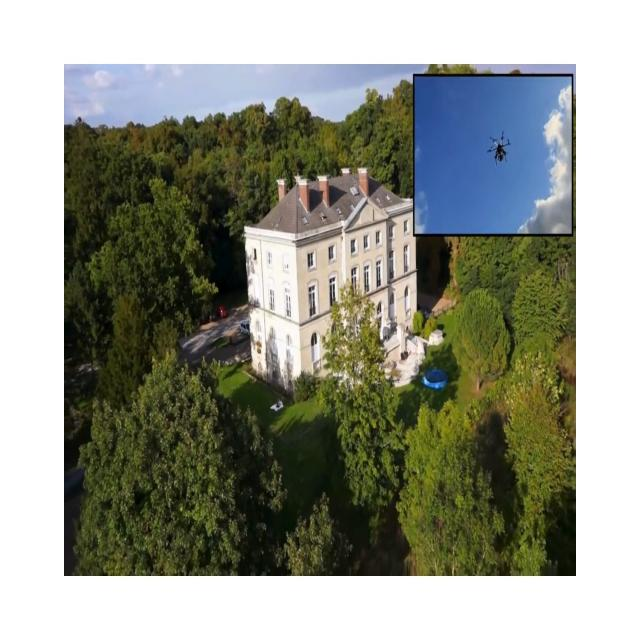drone: (487, 130, 510, 166)
